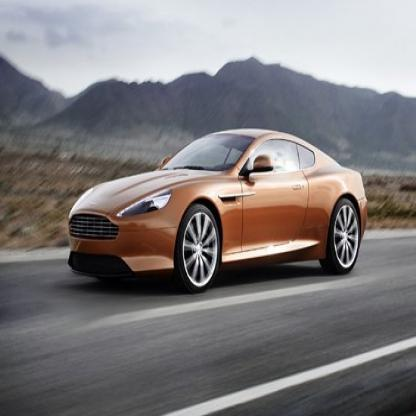Vehicle: (64, 127, 375, 302)
